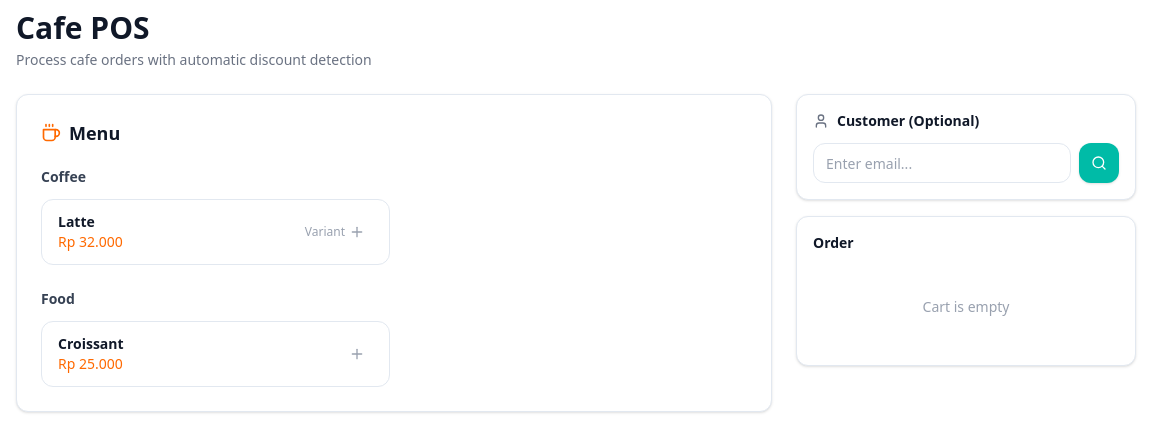
Test: PosClient (AC-101) › no member found shows a not-found message
Type "nobody@x.test" into the field with placeholder "Enter email...".
click(942, 163); type("nobody@x.test")  # box [813,143,1071,183]
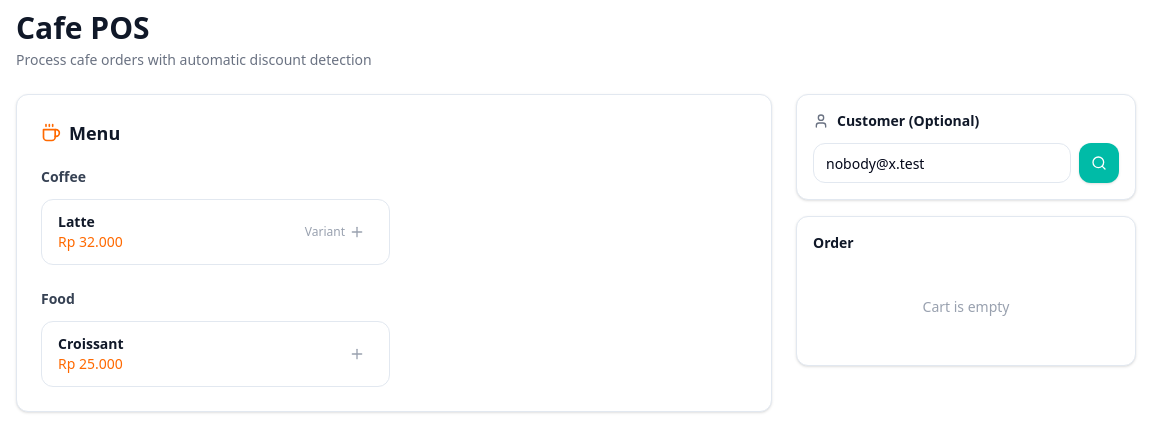
Click the button named "search customer".
click(1099, 163)  # box [1079,143,1119,183]
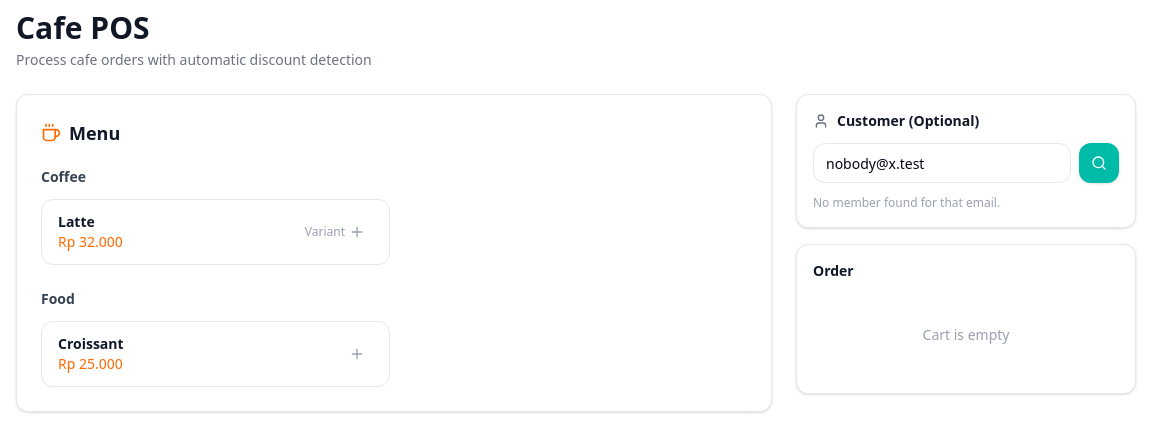
Expected: the text "No member found for that email." is shown, [813,194,1000,211]
